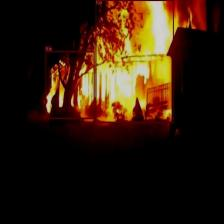fire: (95, 0, 173, 122), (45, 50, 94, 118)
